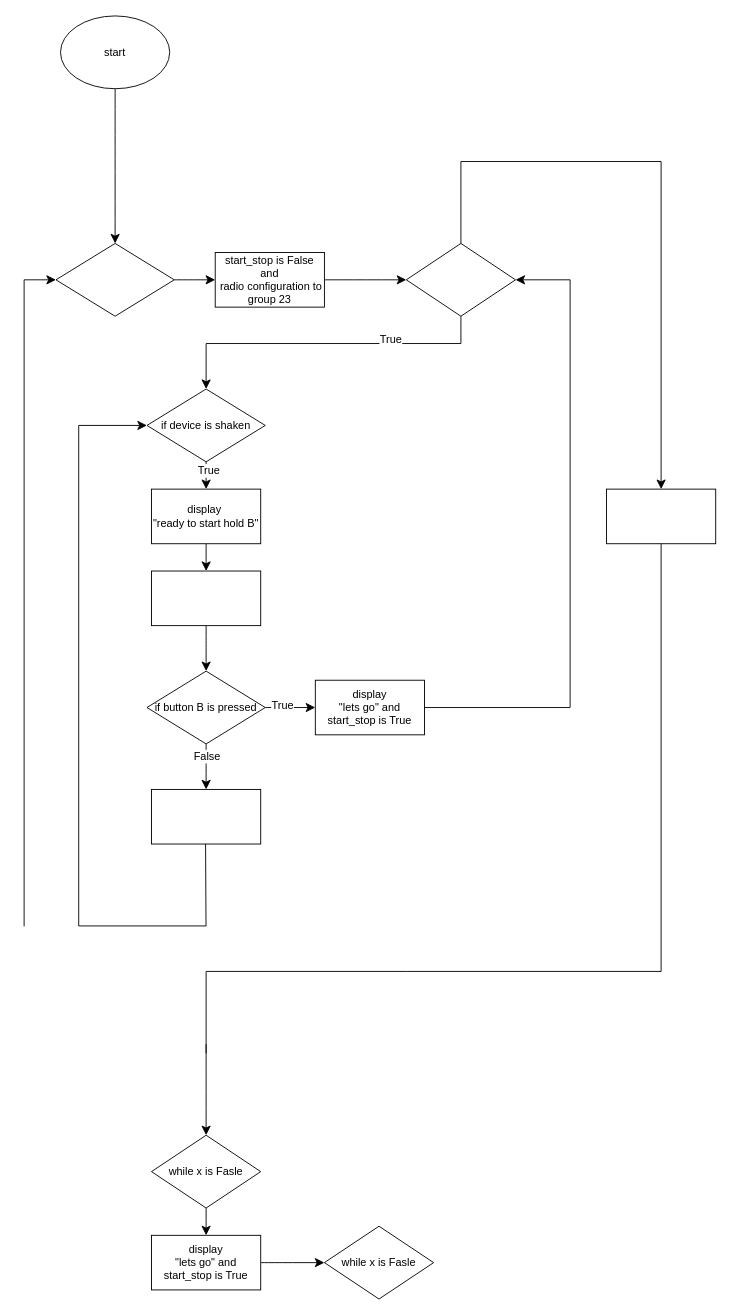
The diagram is 732 pixels wide and 1315 high, and some of its shapes have lost their labels. Here are the shapes that lost their labels. From the top down, the box of each, then its label:
(55, 243, 174, 316): while True
(405, 243, 516, 316): while start_stop is False
(606, 488, 716, 544): weight is 0 choseweight is False x is False
(151, 570, 261, 626): clear display and sleep for 3 seconds
(151, 789, 261, 844): display "thats ok, just shake me again when ready"
